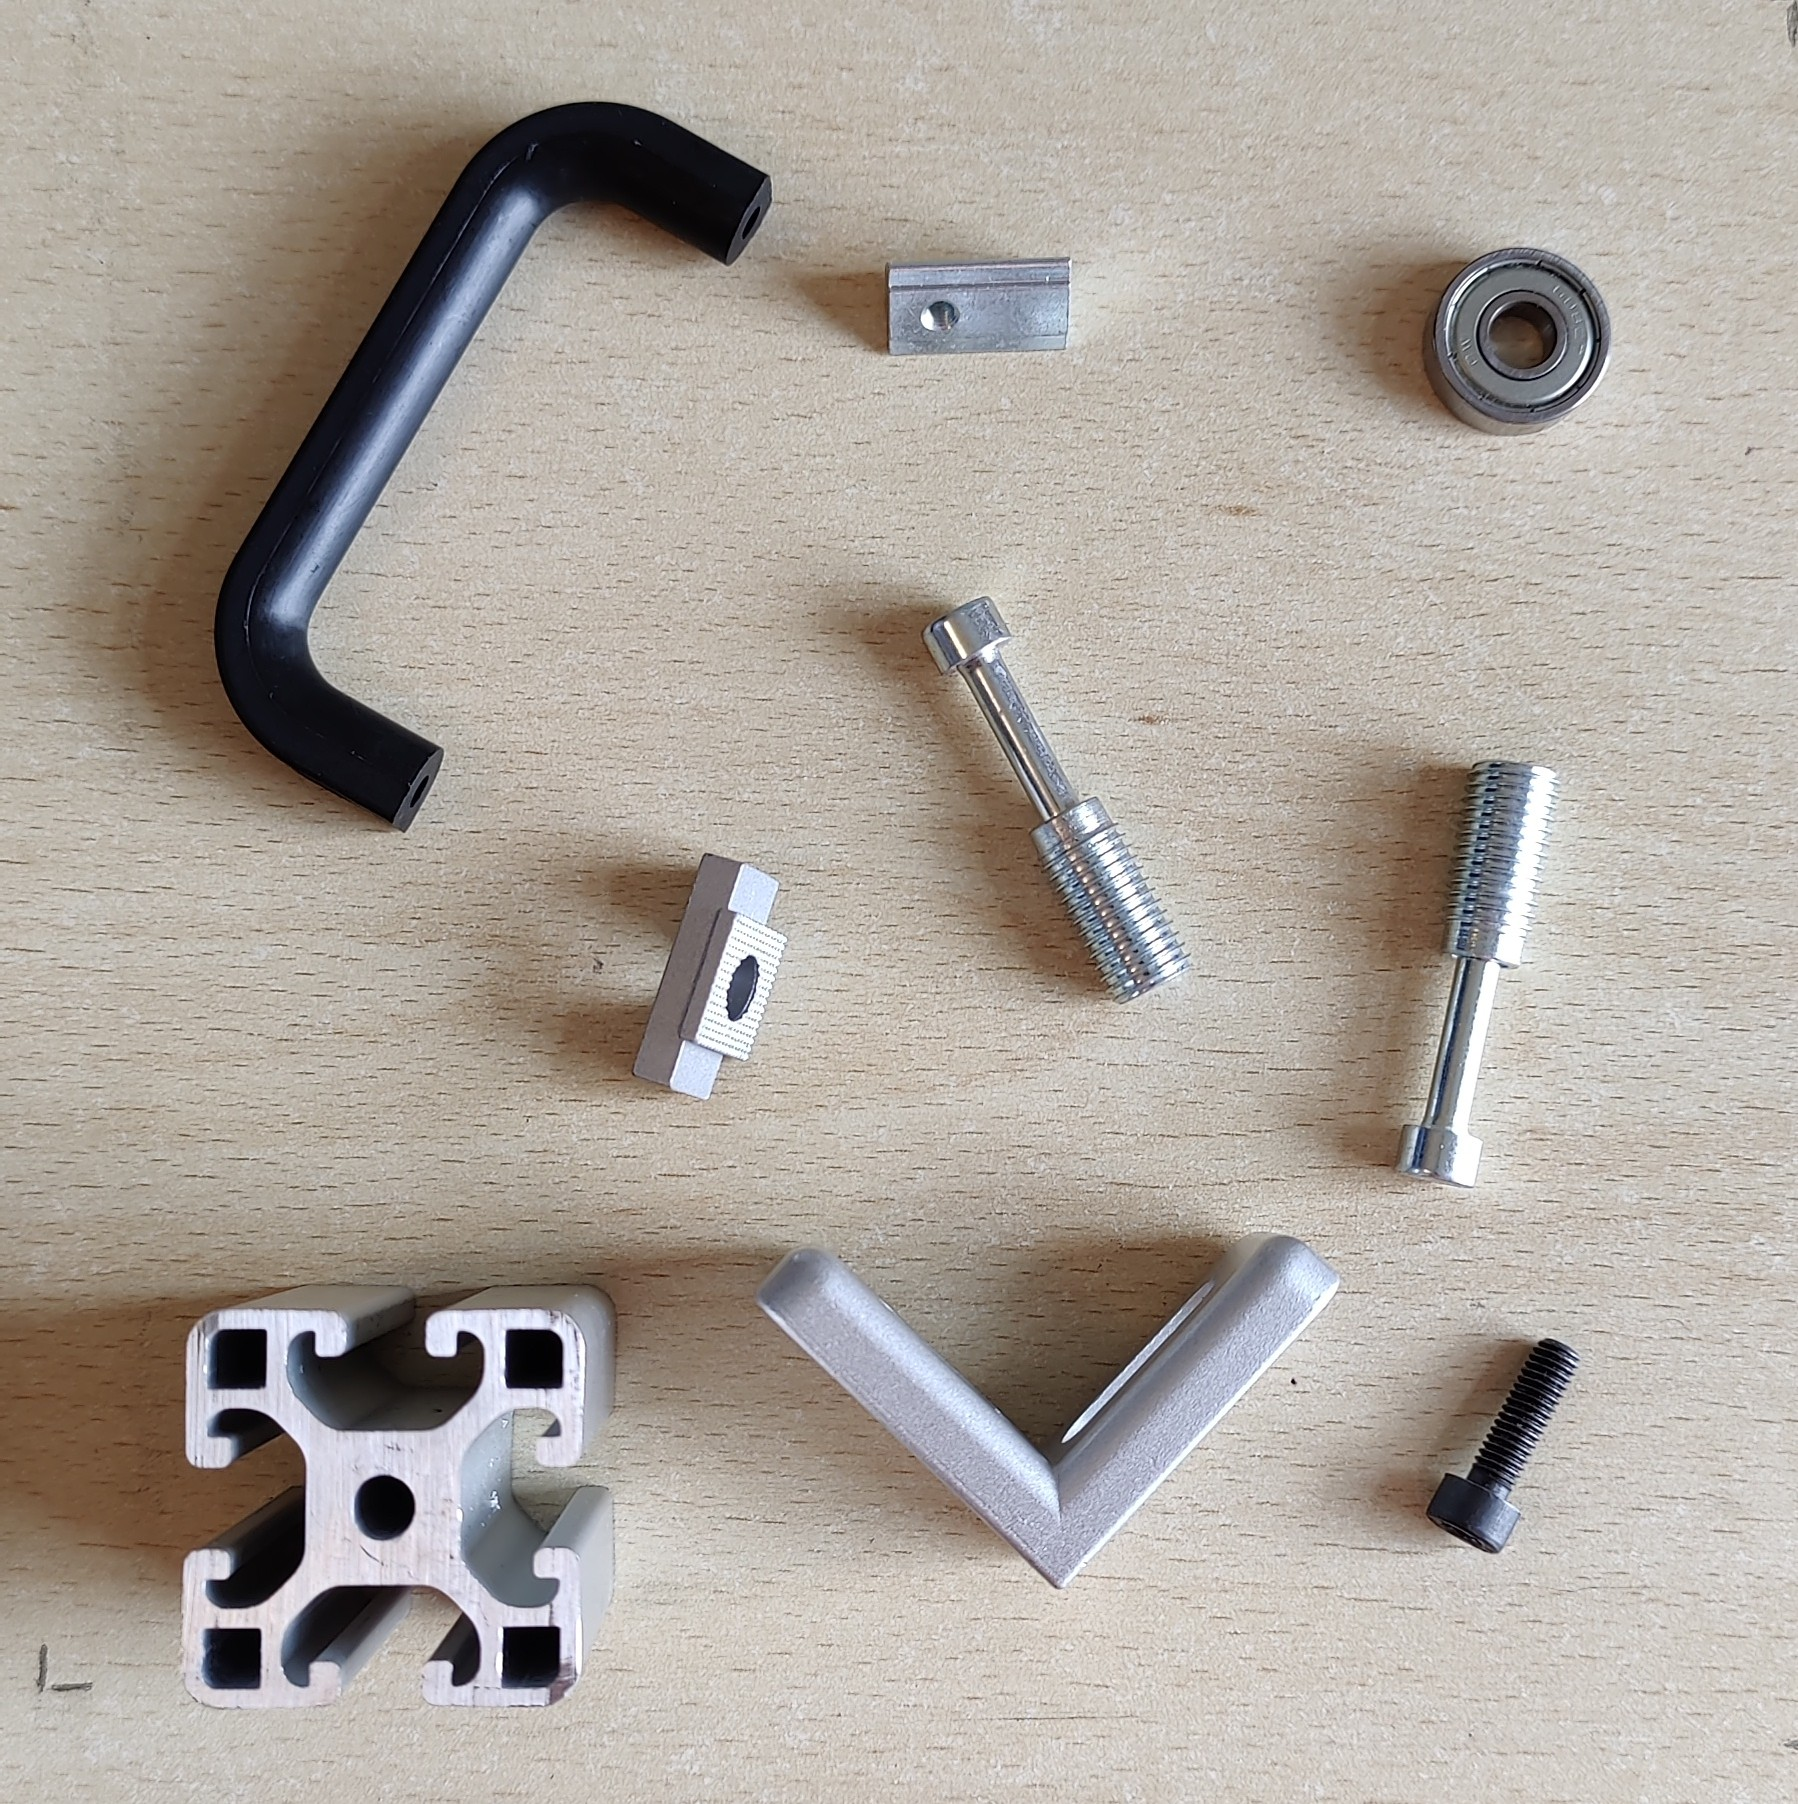Aluminium Extension: (176, 1279, 619, 1713)
Ball Bearing: (1418, 244, 1614, 438)
Multiwinkel: (748, 1230, 1344, 1588)
Pull Handle: (211, 97, 776, 833)
Shoulder Socket Head Cap Screw: (919, 594, 1194, 1007), (1391, 756, 1561, 1192)
Socket Head Cap Screw: (1424, 1333, 1582, 1555)
T Nut Square: (627, 848, 789, 1108)
T Spring Nut: (879, 252, 1078, 360)
